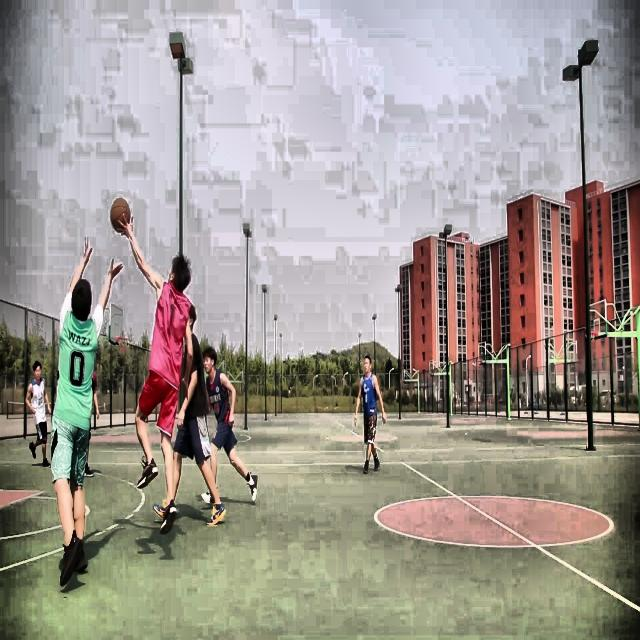board: (110, 196, 131, 232)
rim: (114, 335, 130, 355), (585, 332, 599, 342), (474, 360, 482, 370)
